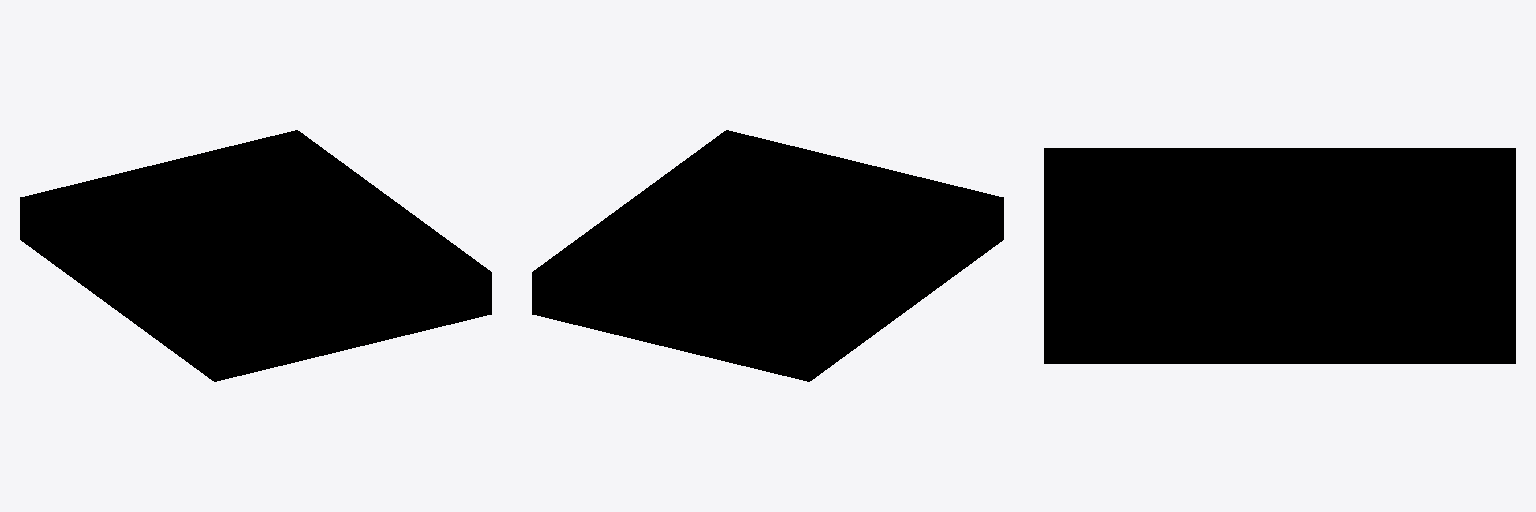
URDF robot description (myfirst):
<?xml version="1.0"?>
 <robot name="myfirst">
   <material name="red">
     <color rgba="1 0.498 0.3137 1"/>
   </material>
   <material name="black">
     <color rgba="0.0 0.0 0.0 1"/>
   </material>
   <material name="green">
     <color rgba="0 1 0.498 1"/>
   </material>
   <link name="right_leg">
     <visual>
       <geometry>
         <box size="0.0537 0.0651 0.0079"/>
       </geometry>
       <material name="black"/>
     </visual>
     <collision>
       <geometry>
         <box size="0.0851 0.0737 0.0279"/>
       </geometry>
     </collision>
     <inertial>
       <mass value="1"/>
       <inertia ixx="1.0" ixy="0.0" ixz="0.0" iyy="1.0" iyz="0.0" izz="1.0"/>
     </inertial>
   </link>
 </robot>

--- Facts derived from the render (not from the file) ---
Views: 3 orthographic renders of the robot side by side, from view 1: azimuth 30°, elevation 25°; view 2: azimuth 150°, elevation 25°; view 3: azimuth 270°, elevation 25°.
Model myfirst with 1 links and 0 joints (none), rooted at right_leg, posed every joint at zero.
Visible links, largest first — view 1: right_leg; view 2: right_leg; view 3: right_leg.
Boxes of the visible links, x1=… form: right_leg: x1=20, y1=130, x2=491, y2=381; right_leg: x1=532, y1=130, x2=1003, y2=381; right_leg: x1=1044, y1=148, x2=1515, y2=363.
Size in the robot's own frame: 0.0537 by 0.0651 by 0.0079 metres.
Geometry: primitives only (box / cylinder / sphere), no mesh files.
